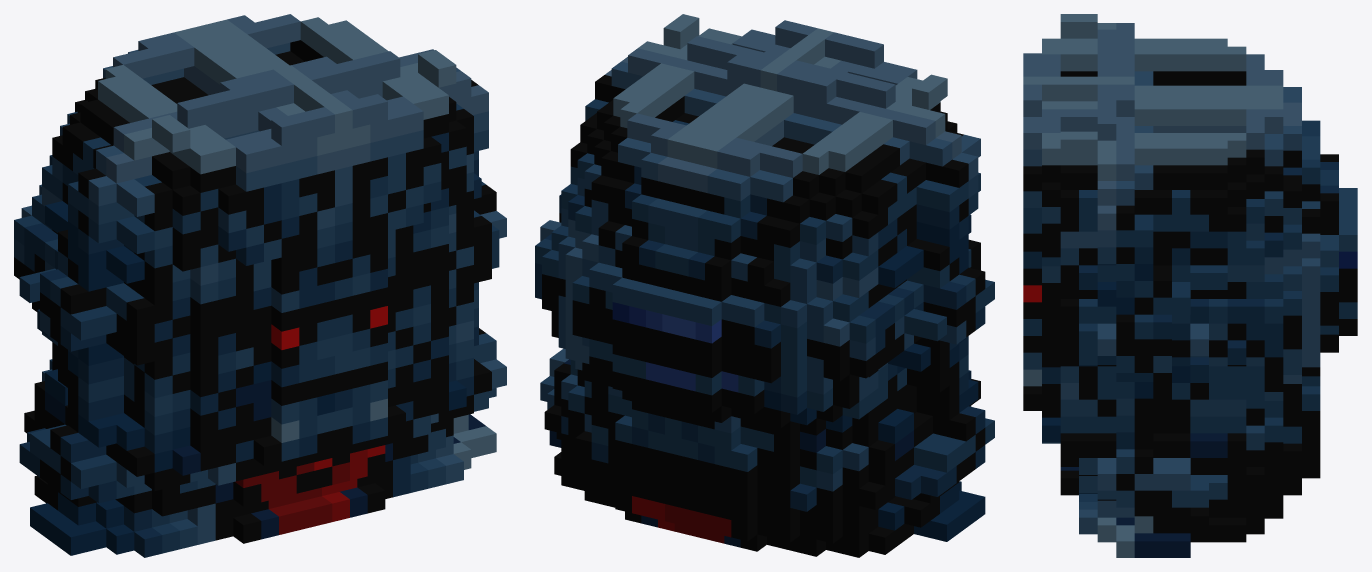
File: Icon_729_02.obj
3 views of the same model, side by side, from view 1: azimuth 30°, elevation 25°; view 2: azimuth 150°, elevation 25°; view 3: azimuth 270°, elevation 25° (orthographic). The views are drawn at different scales.
Bounding box in the file's own units: 2.4 × 2.3 × 1.8.
Materials: 1 (1 with a texture image).
